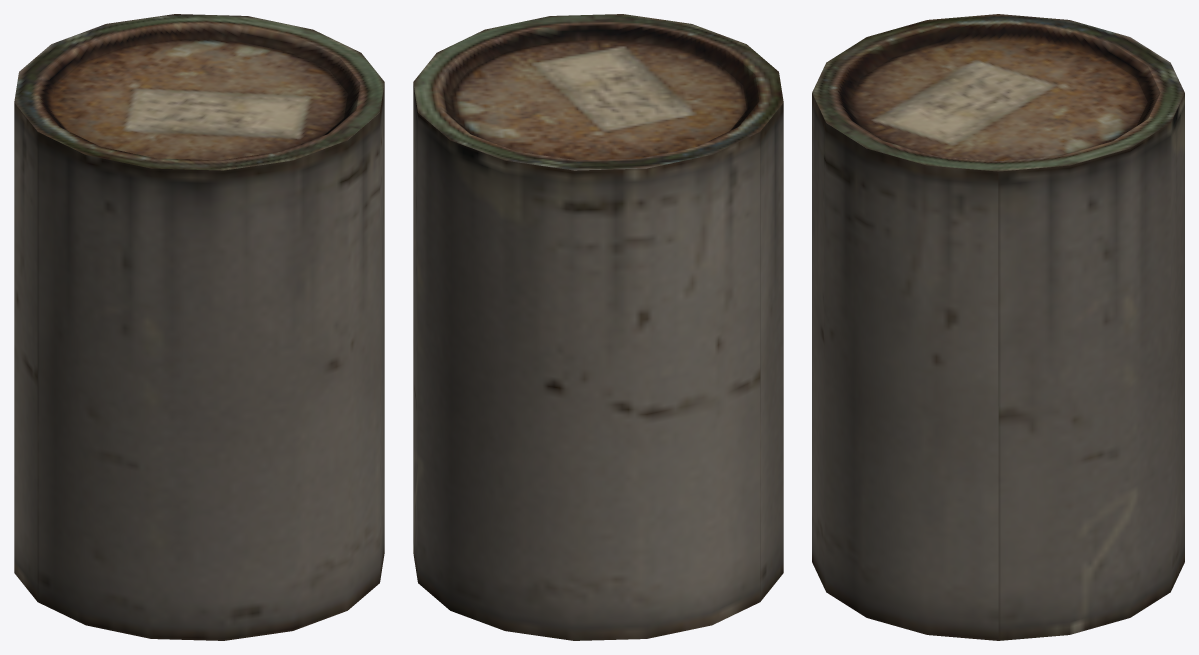
Rendered from paint_can_mx_1.obj.
3 views of the same model, side by side, from view 1: azimuth 30°, elevation 25°; view 2: azimuth 150°, elevation 25°; view 3: azimuth 270°, elevation 25° (orthographic).
Parts seen in each view (by area): view 1: paint_can_mx_1; view 2: paint_can_mx_1; view 3: paint_can_mx_1.
Part boxes in pixels (<box>): paint_can_mx_1: <box>14,14,384,640</box>; paint_can_mx_1: <box>413,14,783,640</box>; paint_can_mx_1: <box>812,14,1184,640</box>.
Bounding box in the file's own units: 0.18 × 0.25 × 0.18.
